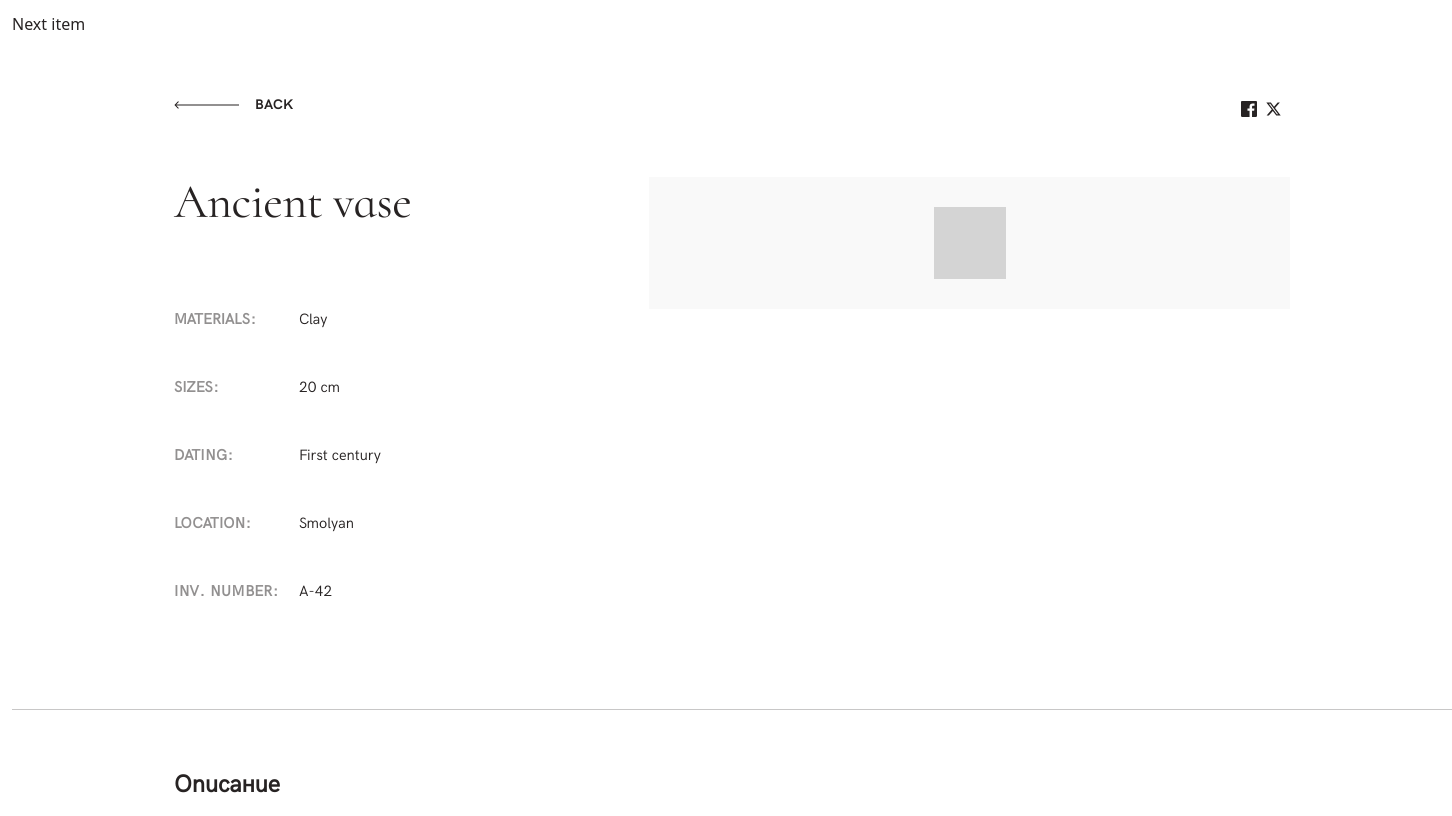
CollectionsDetailItem › loads the newly selected item when the route changes
Expected: the heading "Ancient vase" is shown, [174,179,412,227]
Click the link "Next item": point(49, 24) [12,13,85,35]
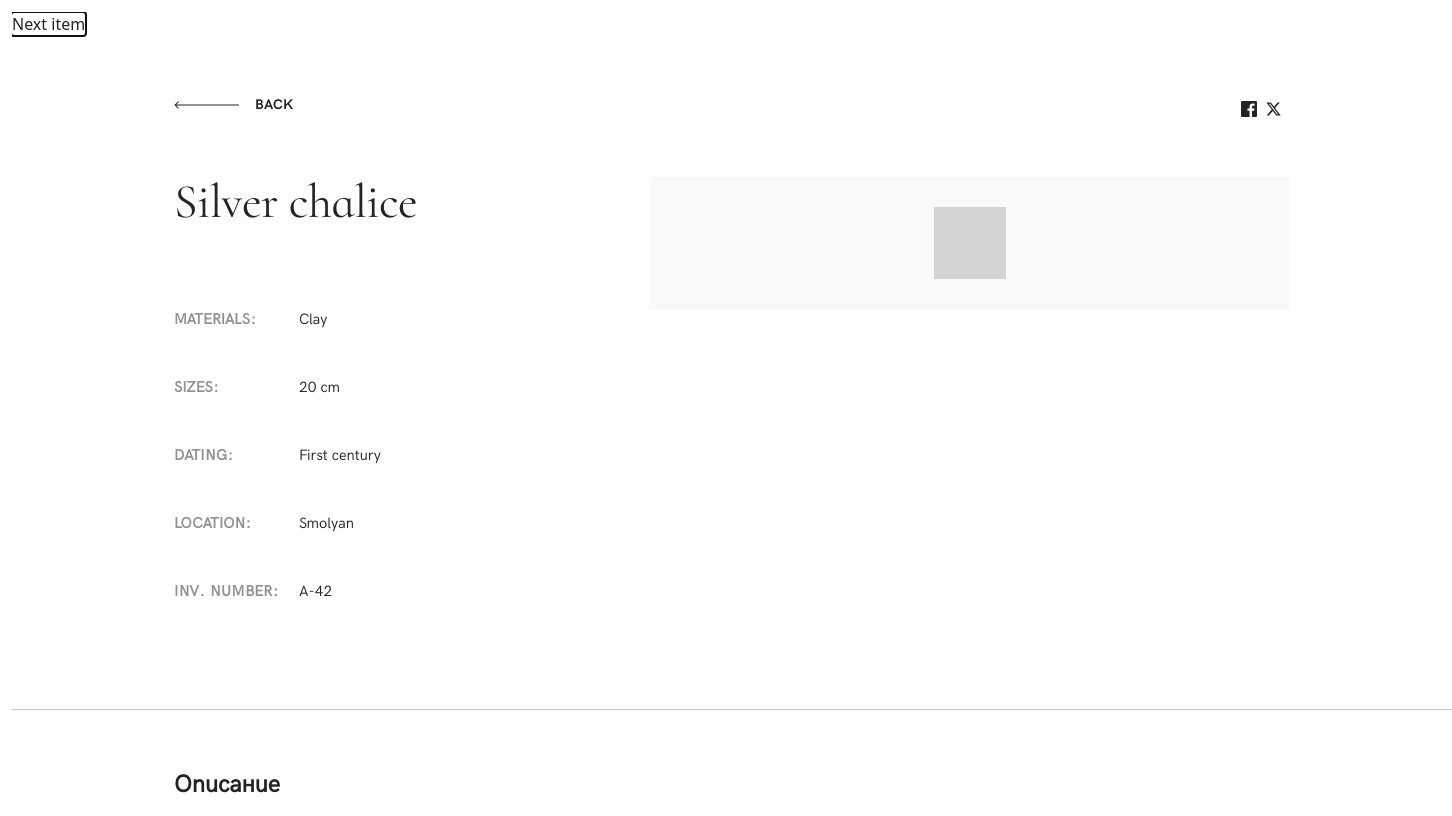
Expected: the heading "Silver chalice" is shown, [174,179,417,227]
